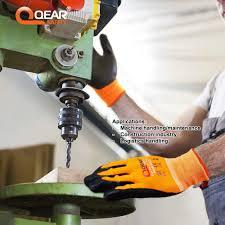gloves: (84, 146, 209, 201), (86, 33, 126, 107)
